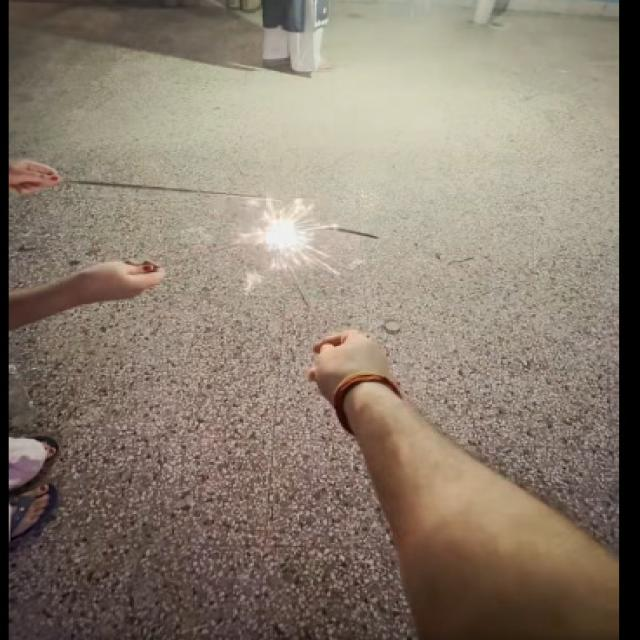fire: (238, 196, 339, 296)
